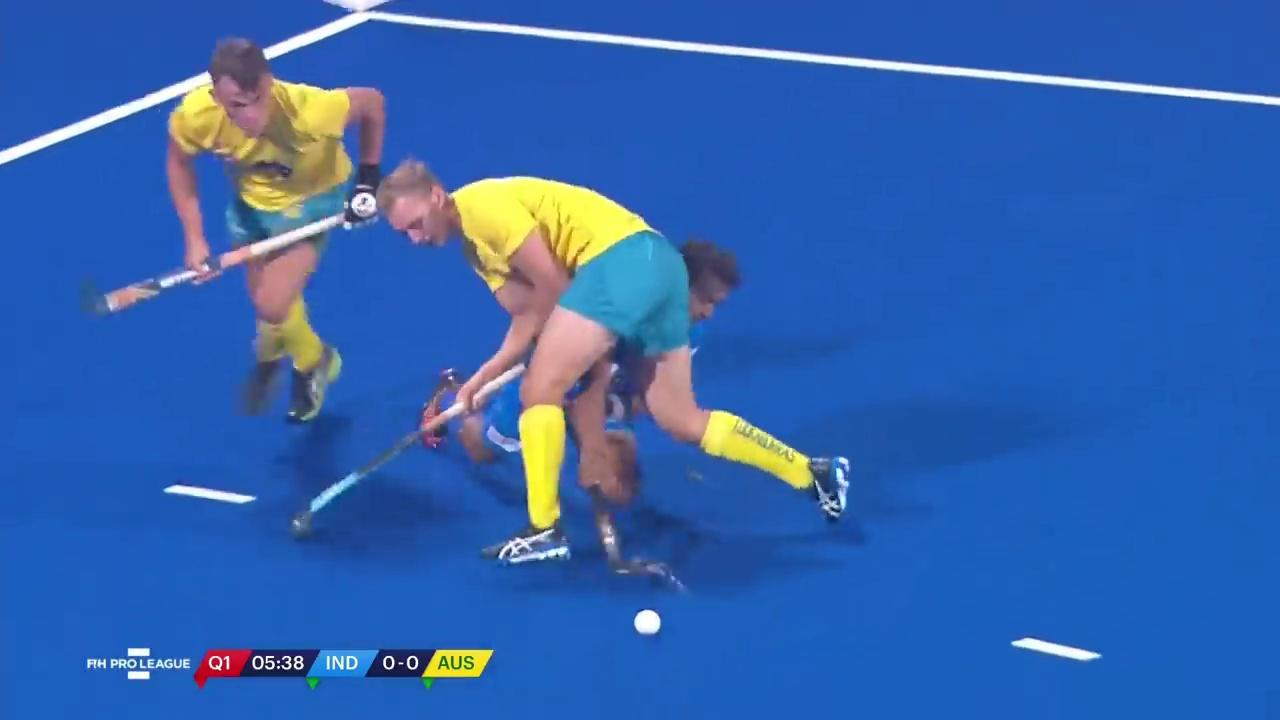ball: (611, 599, 681, 651)
